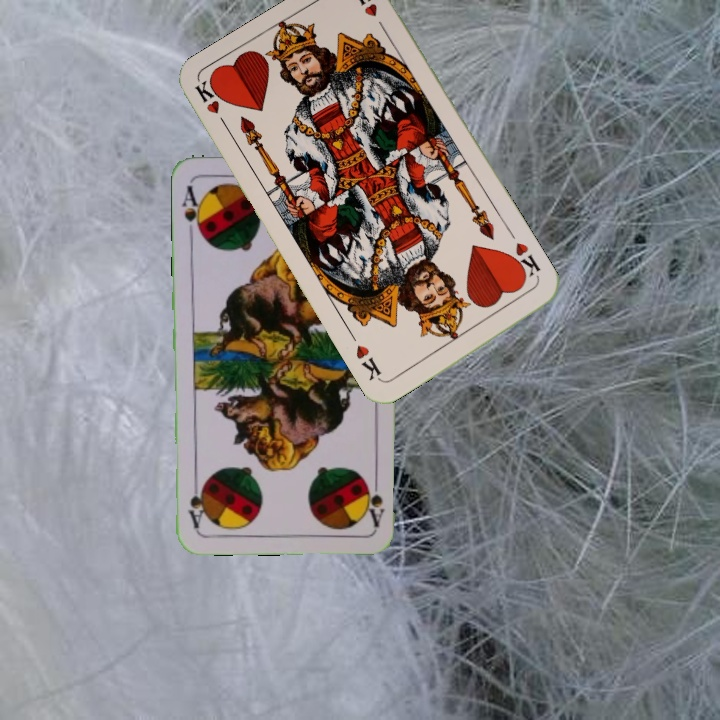HK: (190, 76, 232, 133), (505, 238, 543, 284)
SA: (178, 181, 205, 239), (365, 469, 387, 528)
